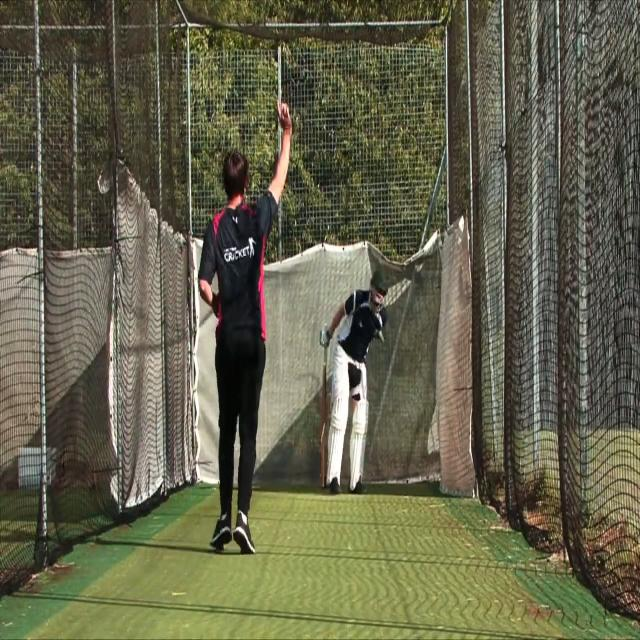batsman: (318, 266, 389, 496)
